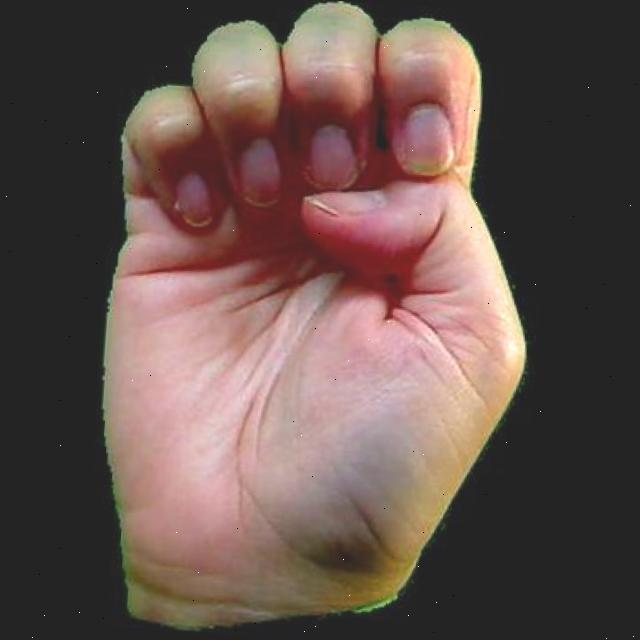e: (77, 0, 557, 640)
